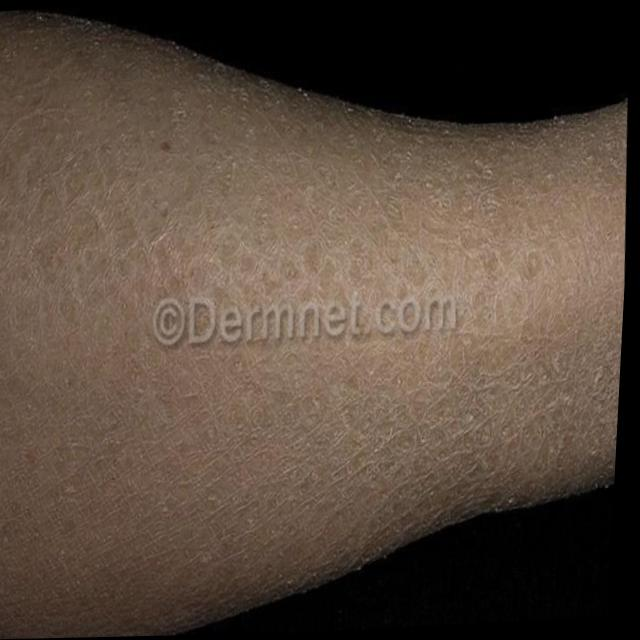liquenificacion 1: (0, 13, 626, 639)
